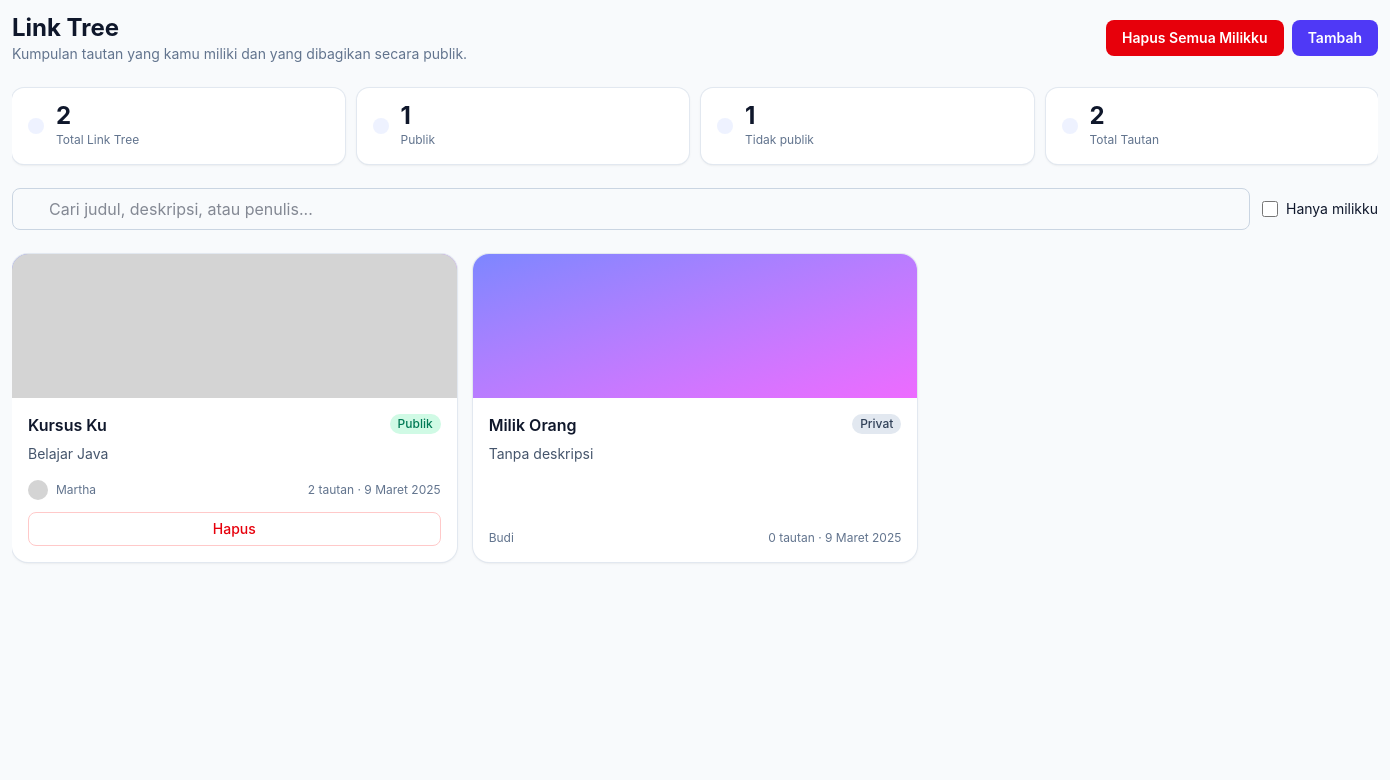
Scenario: HomePage › filter 'Hanya milikku' memuat ulang dengan is_me=1 dan bisa dimatikan
The image size is (1390, 780).
Expected: the link "Milik Orang" is shown, top-left (489, 415), bottom-right (577, 435)
Click the checkbox labelled "Hanya milikku" at (1270, 209), box top-left (1262, 201), bottom-right (1278, 217)
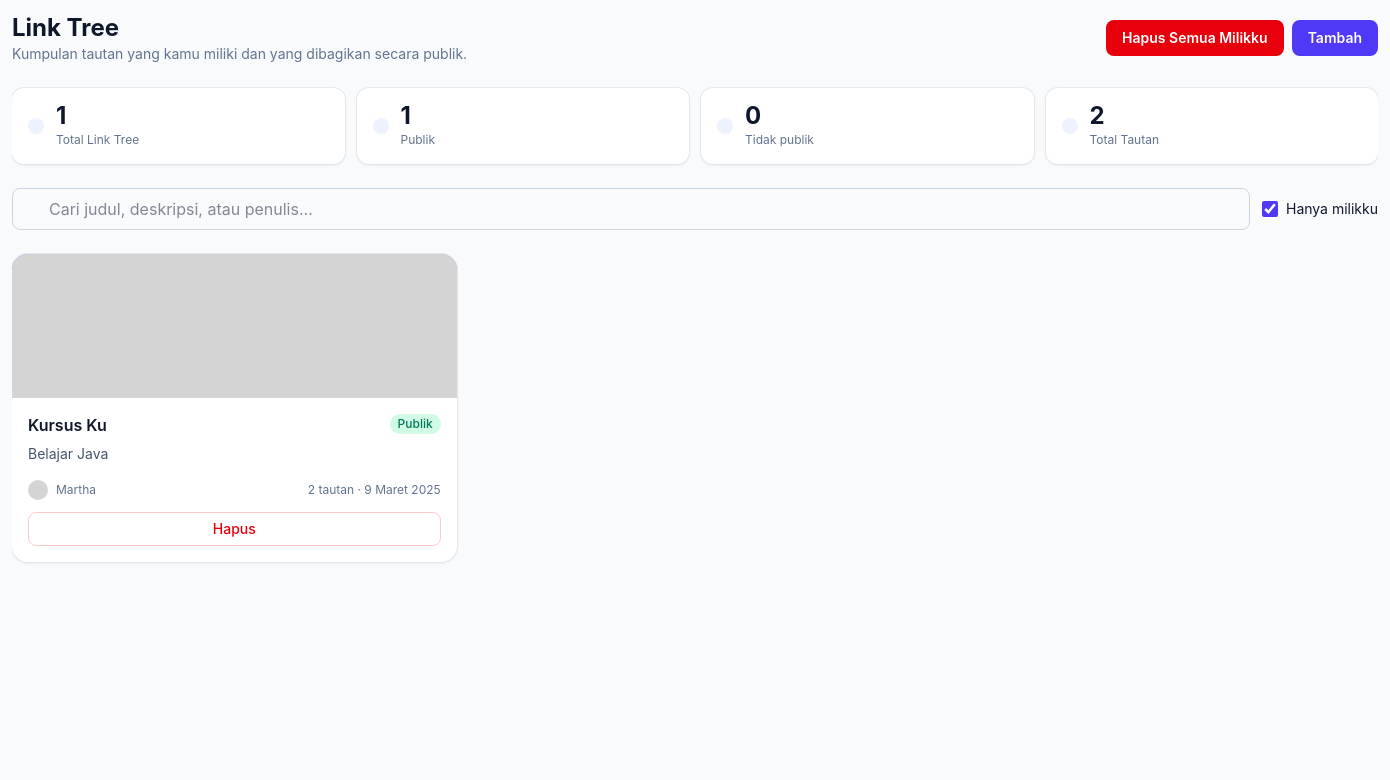
Expected: the link "Milik Orang" is gone
Click the checkbox labelled "Hanya milikku" at (1270, 209), box top-left (1262, 201), bottom-right (1278, 217)
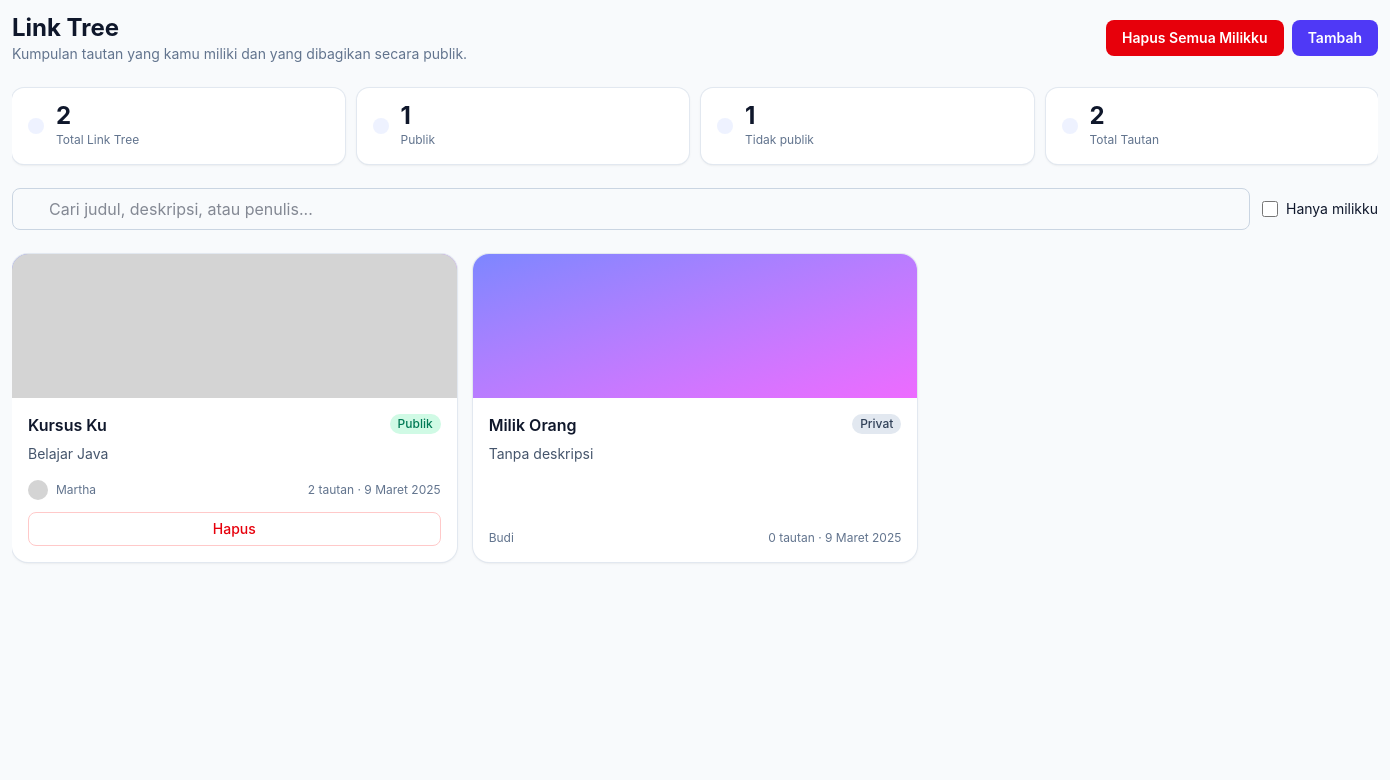
Expected: the link "Milik Orang" is shown, top-left (489, 415), bottom-right (577, 435)
